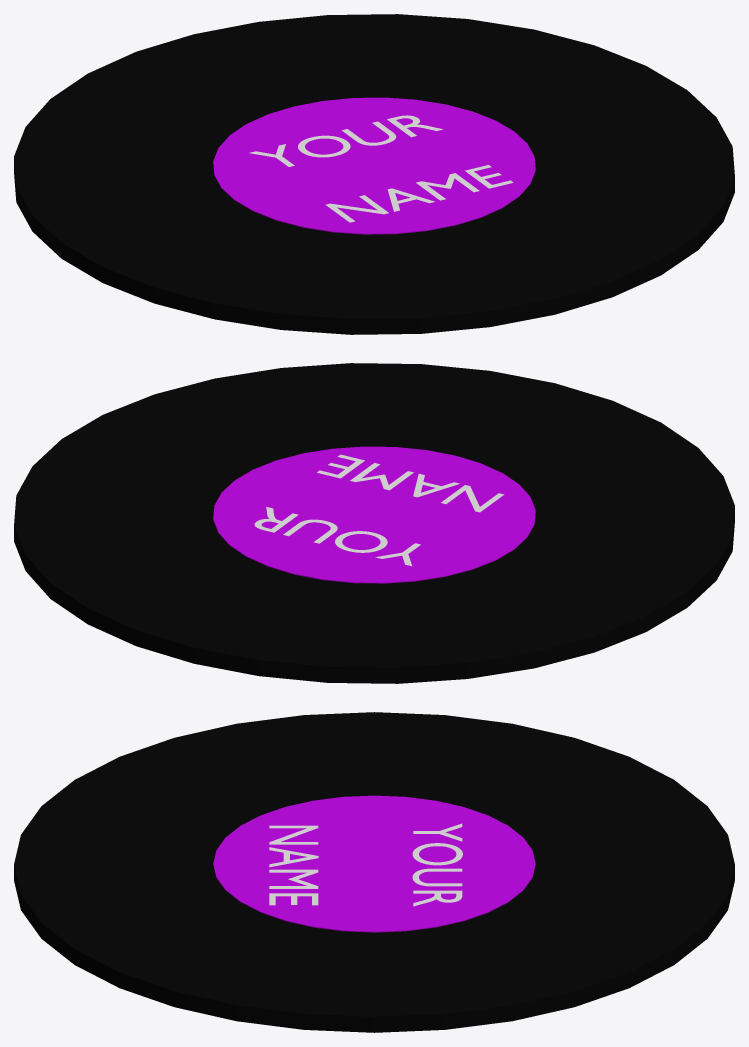
File: vinyle.glb
The picture shows the model from 3 angles, top to bottom: view 1: azimuth 30°, elevation 25°; view 2: azimuth 150°, elevation 25°; view 3: azimuth 270°, elevation 25°; orthographic projection.
Parts seen in each view (by area): view 1: Cylinder, Cylinder.001, Text; view 2: Cylinder, Cylinder.001, Text; view 3: Cylinder, Cylinder.001, Text.
Part boxes in pixels (x1,y1,x2,y2): Cylinder: (14, 14, 734, 334); Cylinder.001: (213, 97, 535, 234); Text: (249, 115, 513, 222); Cylinder: (14, 363, 734, 683); Cylinder.001: (213, 446, 535, 583); Text: (254, 454, 504, 566); Cylinder: (14, 712, 734, 1032); Cylinder.001: (213, 795, 535, 932); Text: (269, 823, 462, 906).
Size of the model in its own units: 3.99 by 0.1052 by 3.99.
